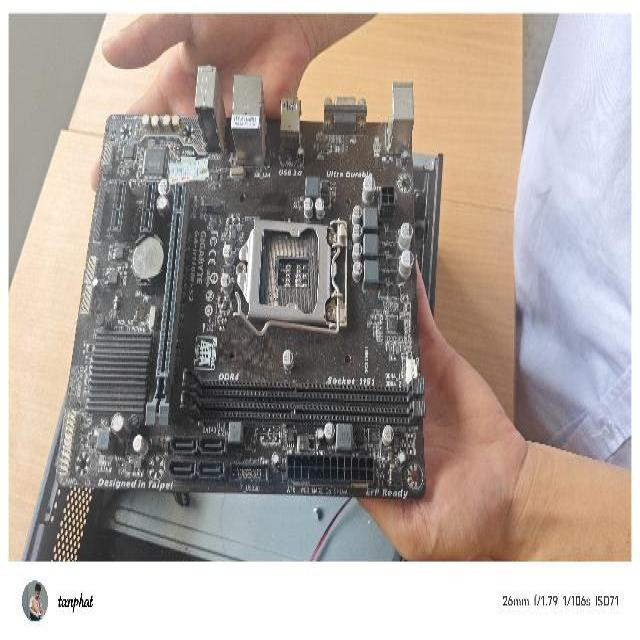Mainboard: (54, 56, 434, 502)
